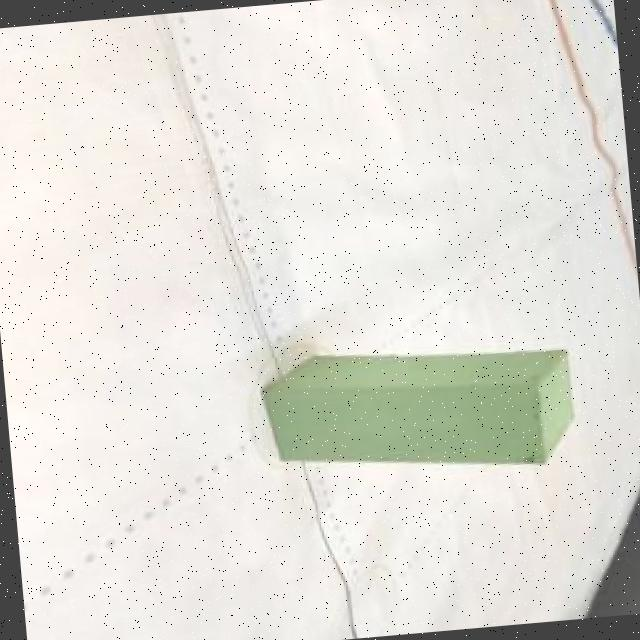greenbox: (260, 331, 580, 488)
